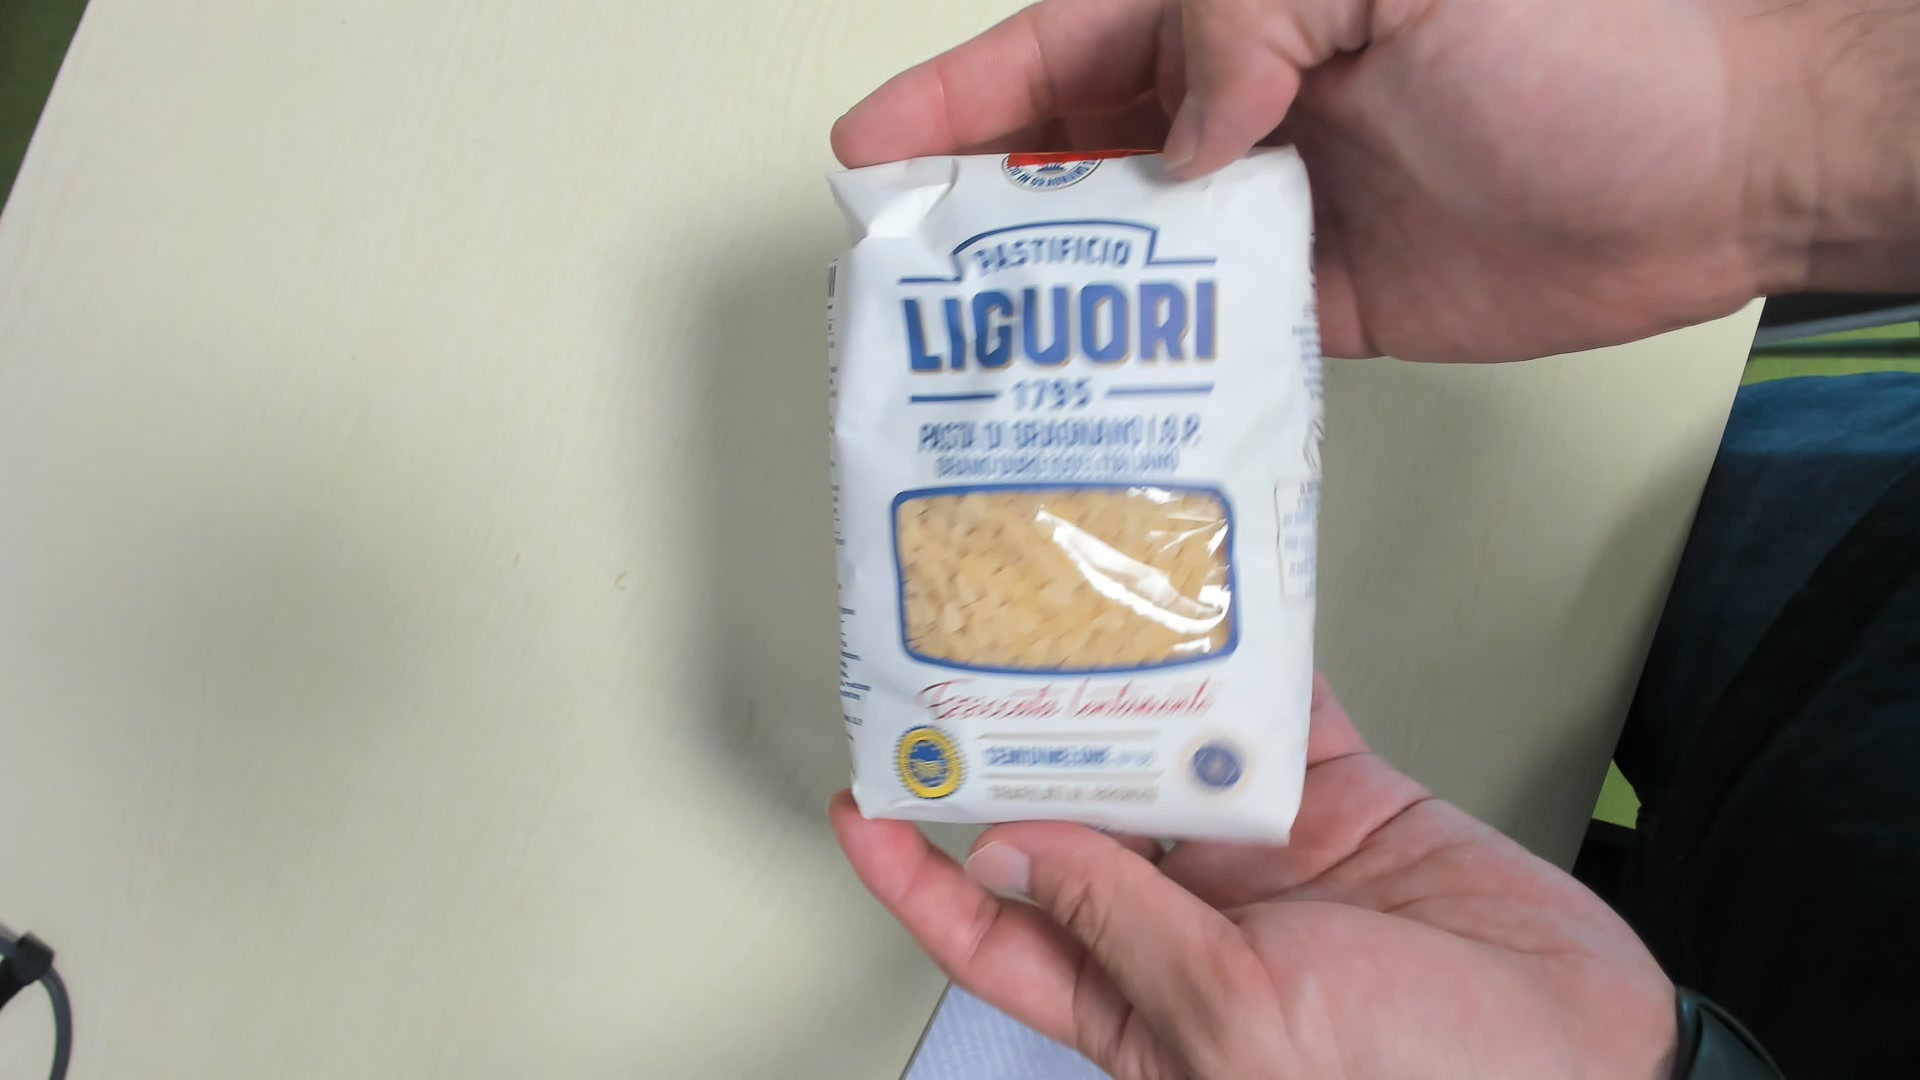Pasta_500-599g_NonHalal_NonHealthy: (827, 160, 1315, 860)
